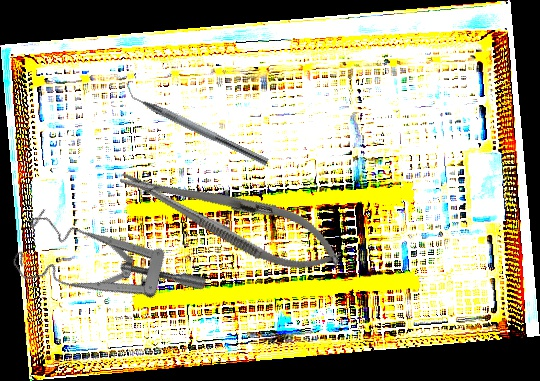Chopper: (119, 80, 274, 167)
Needle Holder: (111, 148, 350, 287)
Speculum: (0, 175, 211, 368)
